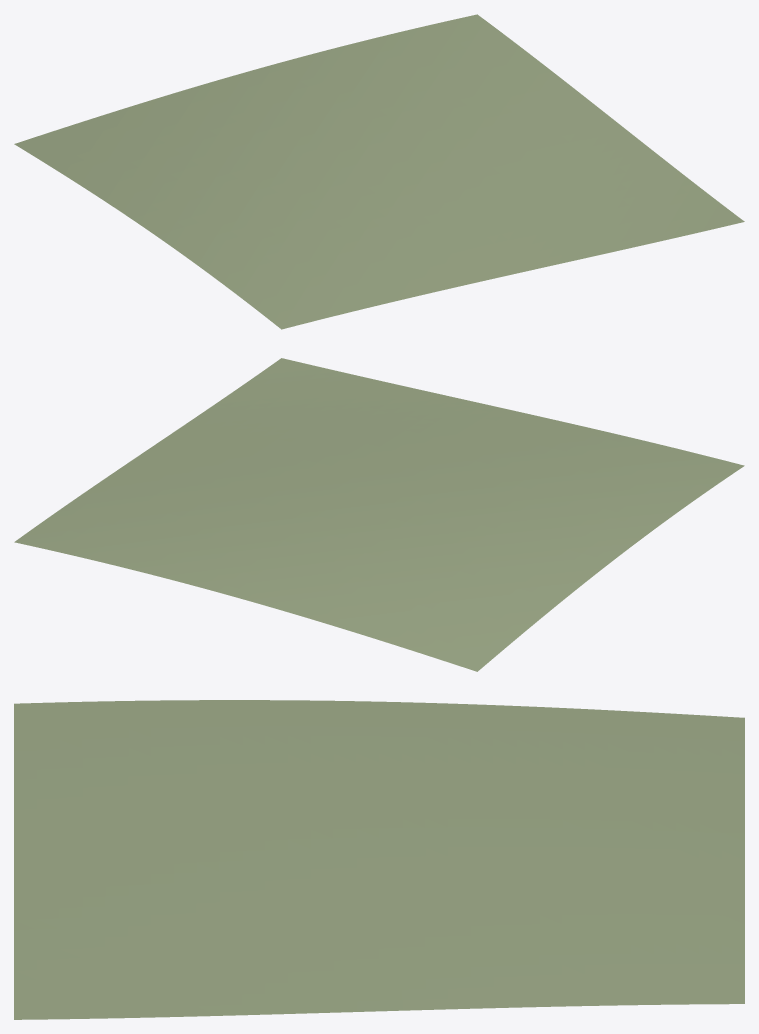
Rendered from alpine-4-13.glb.
The picture shows the model from 3 angles, top to bottom: view 1: azimuth 30°, elevation 25°; view 2: azimuth 150°, elevation 25°; view 3: azimuth 270°, elevation 25°; orthographic projection. The views are drawn at different scales.
Parts seen in each view (by area): view 1: alpine-4-13; view 2: alpine-4-13; view 3: alpine-4-13.
Boxes of the visible parts, x1,y1,x2,y2 form: alpine-4-13: (14,14,744,329); alpine-4-13: (14,358,744,671); alpine-4-13: (14,700,744,1019).
Bounding box in the file's own units: 256 × 9.98 × 256.
